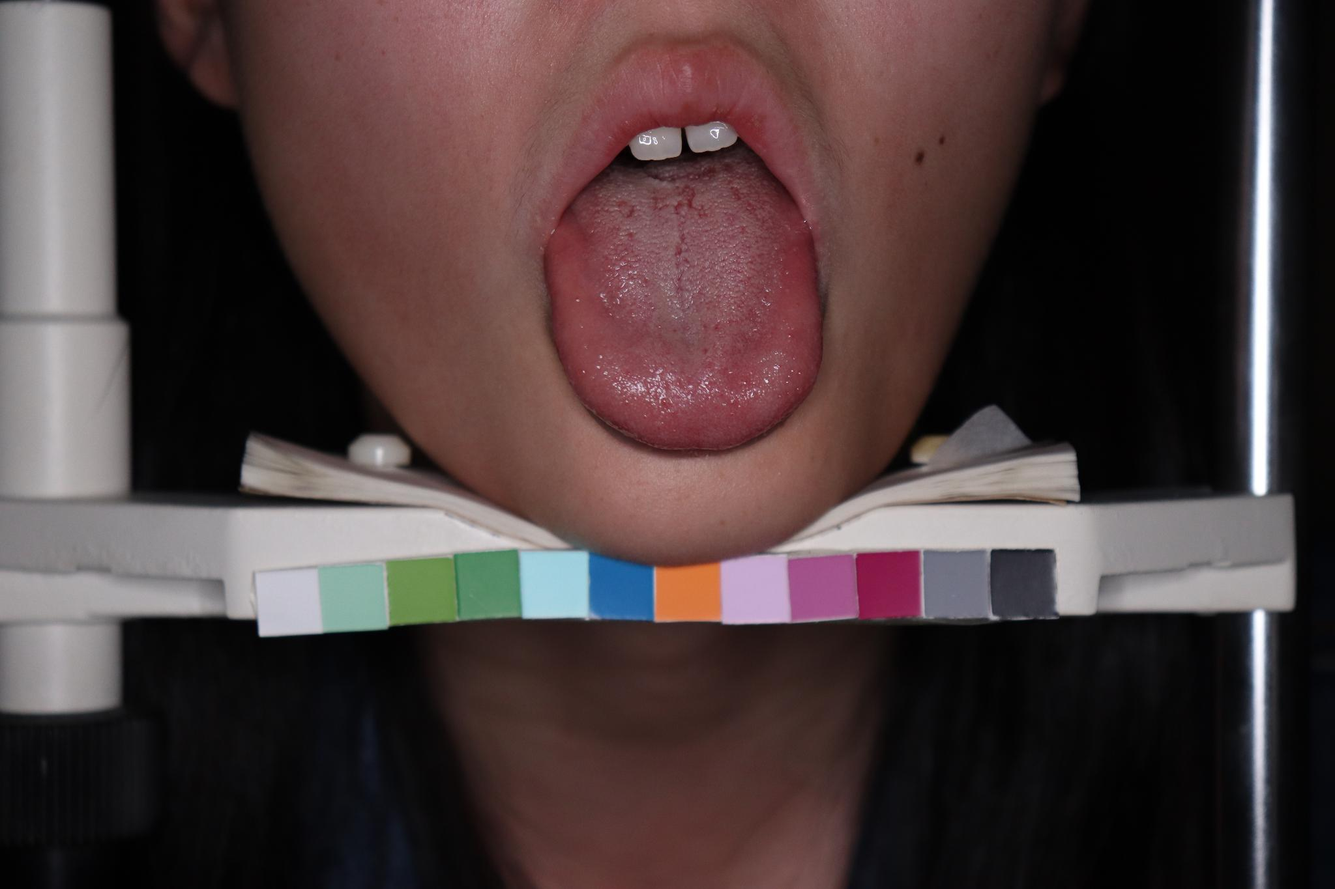baitaishe: (543, 147, 825, 451)
hongshe: (543, 147, 825, 451)
